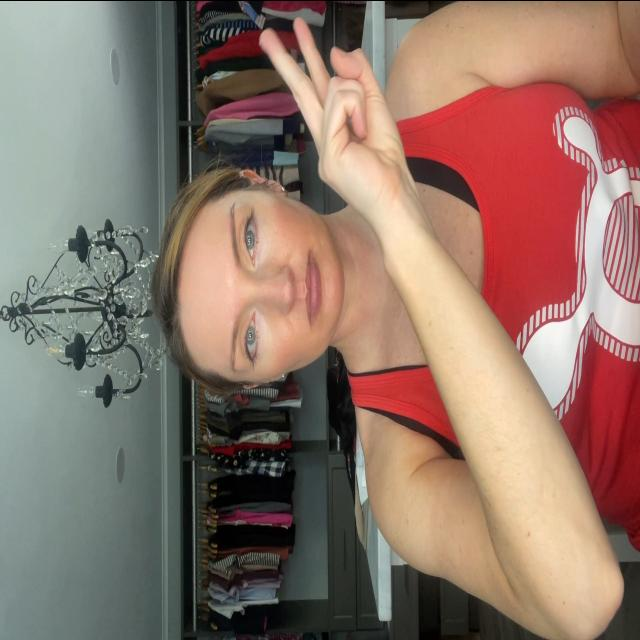Scissors: (256, 18, 410, 212)
